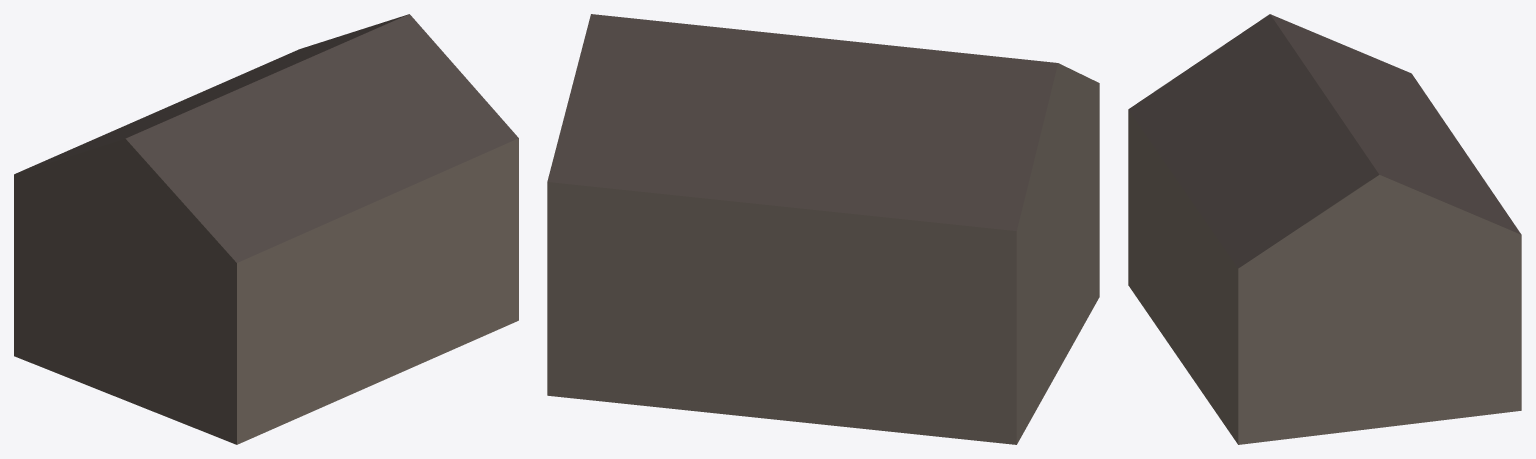
3 renders of one model, left to right at view 1: azimuth 30°, elevation 25°; view 2: azimuth 150°, elevation 25°; view 3: azimuth 270°, elevation 25°, orthographic. The views are drawn at different scales.
Visible parts, largest first — view 1: HP-w1198020610; view 2: HP-w1198020610; view 3: HP-w1198020610.
Part boxes in pixels (x1=…): HP-w1198020610: x1=14, y1=14, x2=518, y2=444; HP-w1198020610: x1=547, y1=14, x2=1099, y2=444; HP-w1198020610: x1=1128, y1=14, x2=1521, y2=444.
Size of the model in its own units: 14.33 by 8.64 by 12.17.
